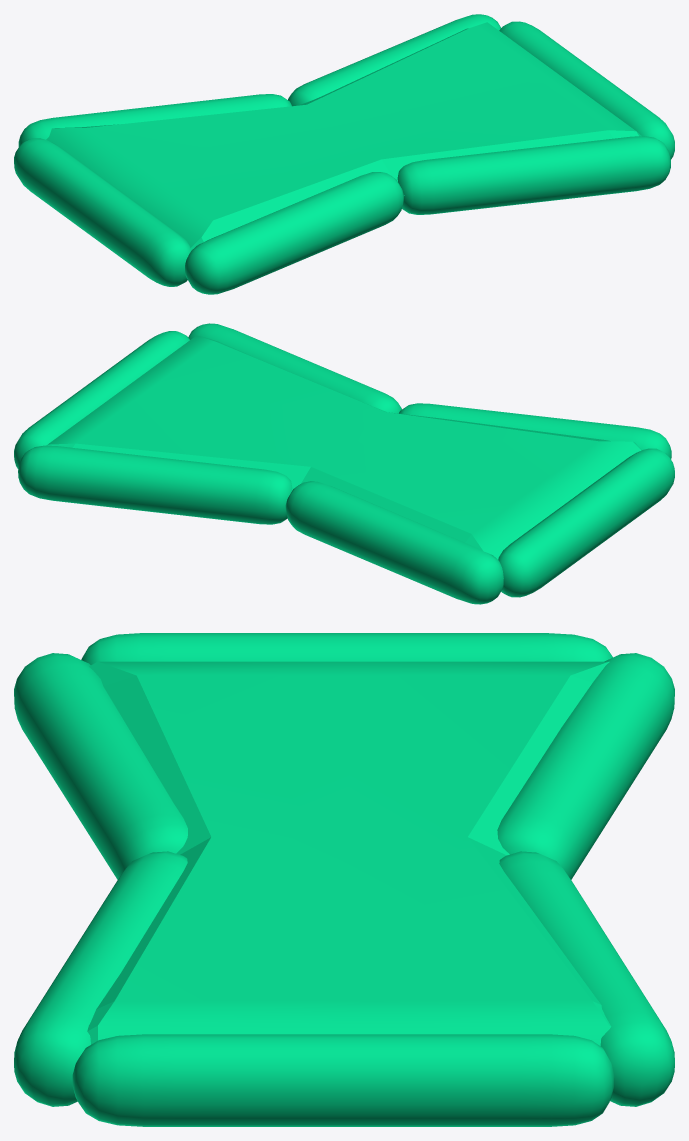
The model's file is Collision_BridgePlatform.fbx.
3 views of the same model, one above another, from view 1: azimuth 30°, elevation 25°; view 2: azimuth 150°, elevation 25°; view 3: azimuth 270°, elevation 25° (orthographic). The views are drawn at different scales.
Visible parts, largest first — view 1: Interior, polySurface3107, polySurface3102, polySurface3103, polySurface3106, polySurface3104, polySurface3105; view 2: Interior, polySurface3105, polySurface3104, polySurface3103, polySurface3106, polySurface3102, polySurface3107; view 3: Interior, polySurface3106, polySurface3102, polySurface3104, polySurface3107, polySurface3103, polySurface3105.
Part boxes in pixels (box(x1,y1,x2,y2)): Interior: box(46, 22, 641, 250); polySurface3107: box(397, 136, 670, 214); polySurface3102: box(185, 172, 403, 294); polySurface3103: box(14, 138, 190, 286); polySurface3106: box(499, 21, 674, 159); polySurface3104: box(18, 94, 291, 146); polySurface3105: box(288, 14, 500, 106); Interior: box(47, 335, 641, 559); polySurface3105: box(18, 445, 292, 524); polySurface3104: box(285, 481, 503, 604); polySurface3103: box(498, 448, 674, 597); polySurface3106: box(14, 331, 189, 469); polySurface3102: box(399, 403, 671, 458); polySurface3107: box(188, 323, 401, 413); Interior: box(87, 661, 611, 1045); polySurface3106: box(72, 1034, 614, 1126); polySurface3102: box(14, 653, 187, 879); polySurface3104: box(497, 653, 674, 879); polySurface3107: box(14, 851, 187, 1106); polySurface3103: box(81, 633, 612, 664); polySurface3105: box(499, 851, 674, 1106).
Bounding box in the file's own units: 1395 × 127 × 893.
